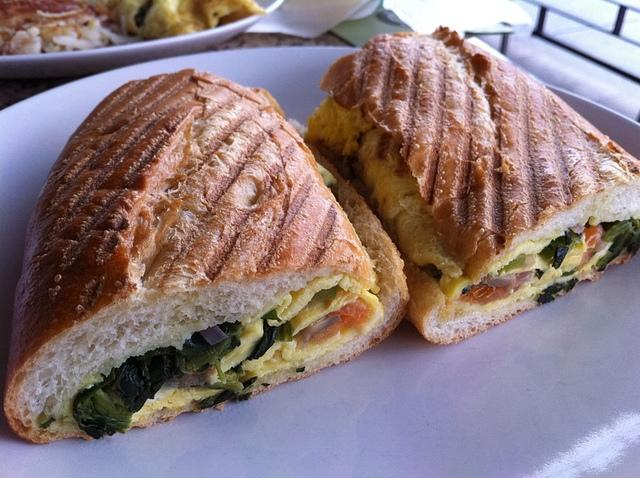lettuce: (594, 217, 640, 271), (181, 324, 230, 367), (92, 388, 133, 435), (109, 364, 148, 413), (208, 376, 245, 394), (562, 278, 577, 295)
